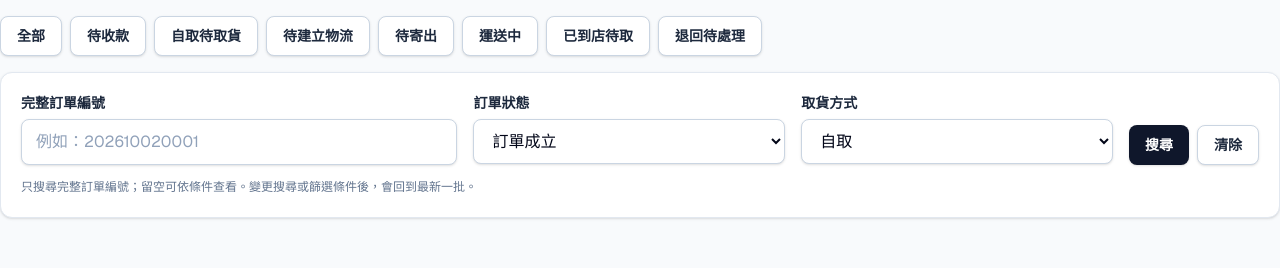
Test: changing a filter incompatible with SELF_PICKUP_PENDING fails closed without discarding the queue
This screenshot has width=1280, height=268.
Select "7-ELEVEN" in the dropdown labelled "取貨方式" at (957, 142), box x1=801 y1=119 x2=1113 y2=164
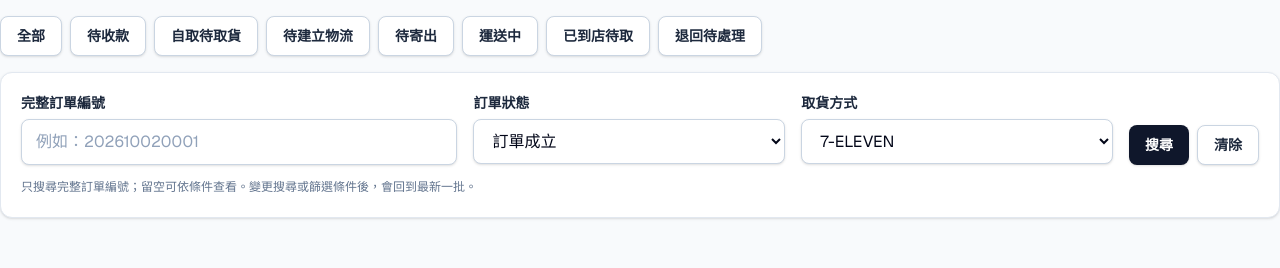
Submit the form named "搜尋及篩選訂單", box x1=0 y1=72 x2=1279 y2=218
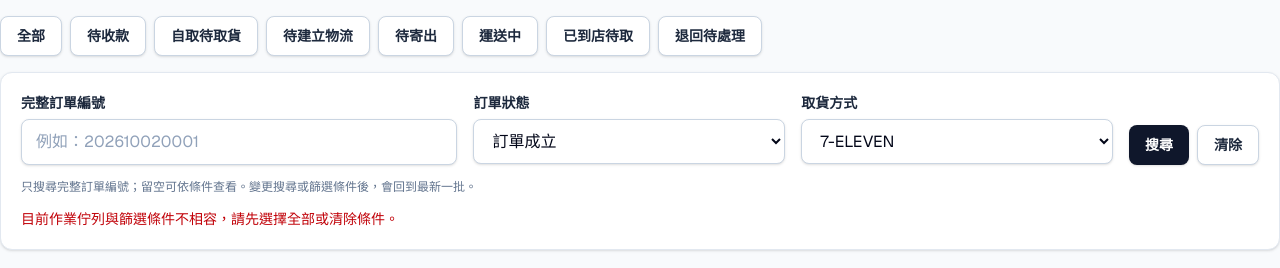
expect the message reads "目前作業佇列與篩選條件不相容，請先選擇全部或清除條件。": met, box x1=21 y1=210 x2=399 y2=228
